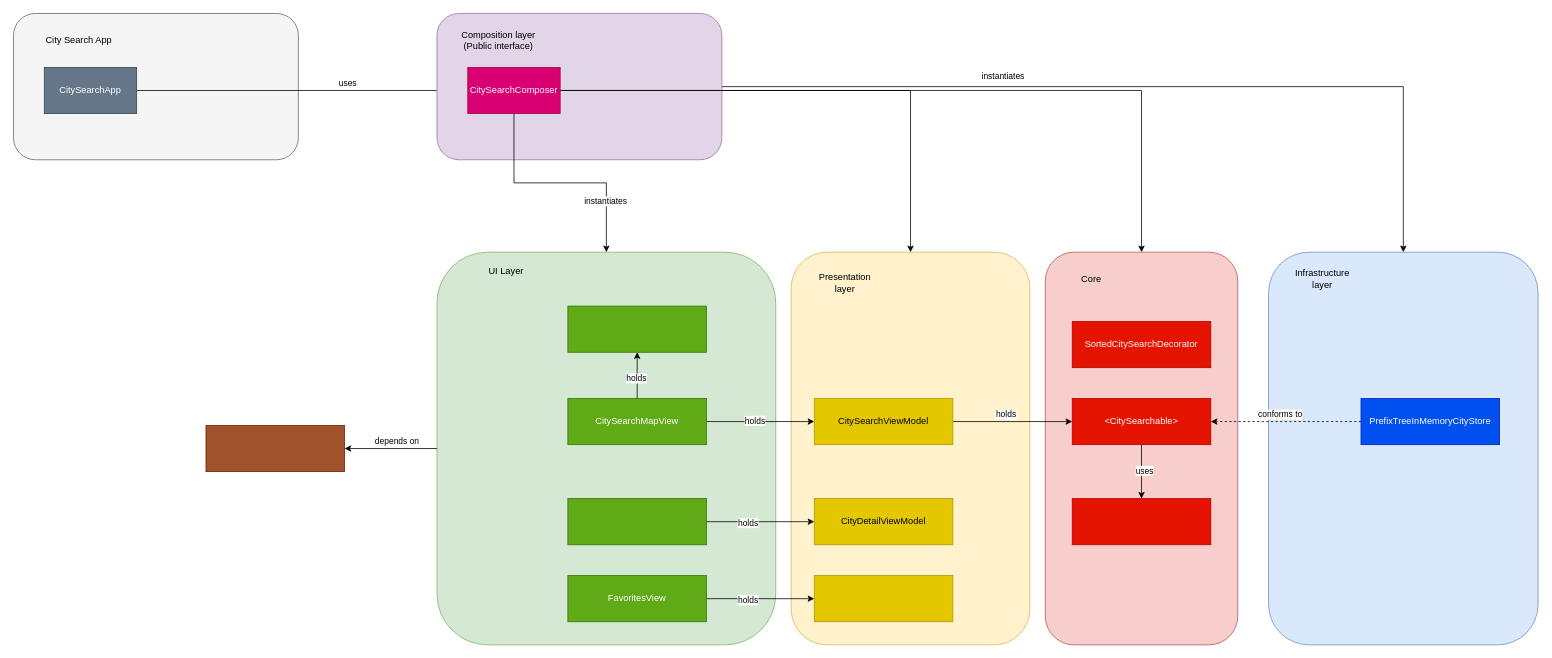
The diagram is 1552 pixels wide and 658 high, and some of its shapes have lost their labels. Here are the shapes that lost their labels. From the top down, the centre of each, then its label:
At point (636, 328): "SearchInputView".
At point (275, 448): "SwiftUI".
At point (636, 521): "CityCardView".
At point (1141, 521): "City".
At point (883, 598): "FavoritesViewModel".
